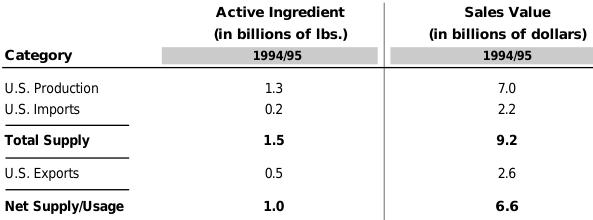table: (3, 3, 586, 213)
table column: (167, 3, 387, 213), (387, 3, 586, 213), (3, 3, 167, 213)
table column header: (3, 3, 586, 70)
table row: (3, 3, 586, 70), (3, 155, 586, 188), (3, 123, 586, 155), (3, 70, 586, 98), (3, 98, 586, 123), (3, 188, 586, 213)
